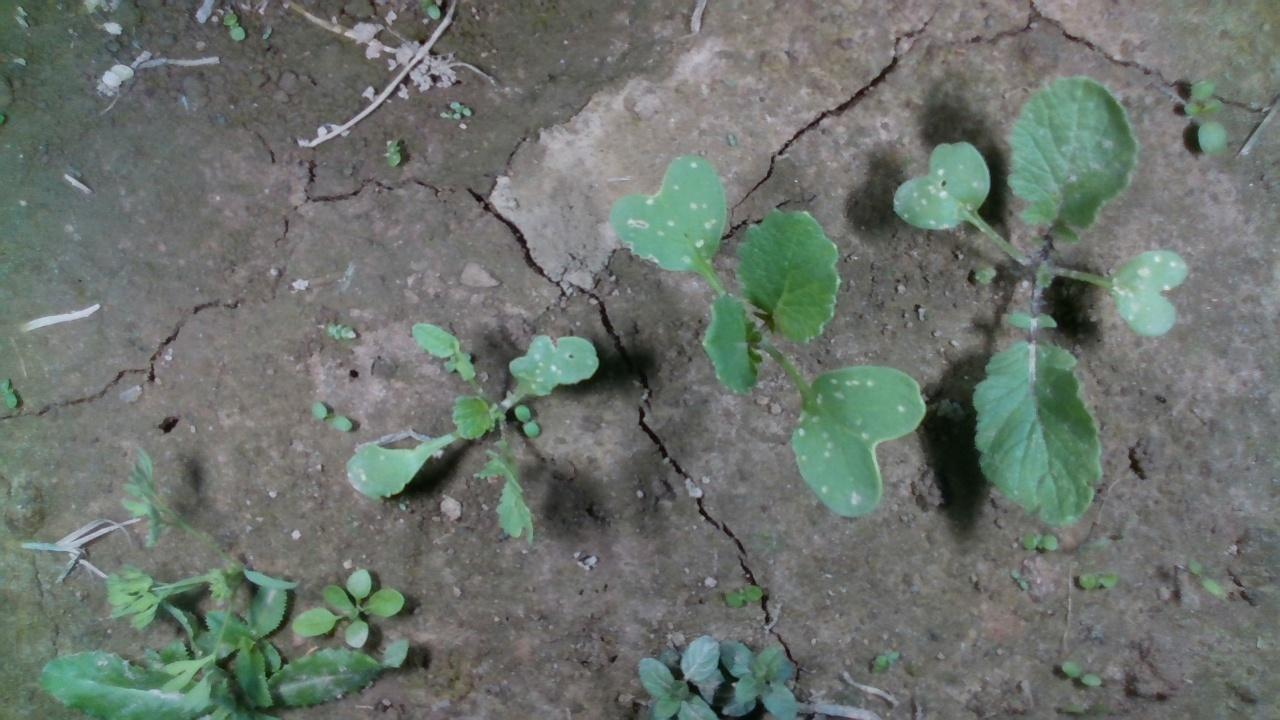weed: (1182, 77, 1229, 159), (1187, 558, 1223, 597), (310, 401, 354, 432), (1059, 660, 1103, 688), (723, 583, 764, 610), (514, 403, 540, 440), (1075, 571, 1120, 591), (1019, 532, 1059, 552), (221, 12, 246, 41), (383, 137, 403, 169), (324, 321, 356, 340), (0, 376, 18, 409), (1008, 568, 1030, 591), (261, 26, 274, 41)
